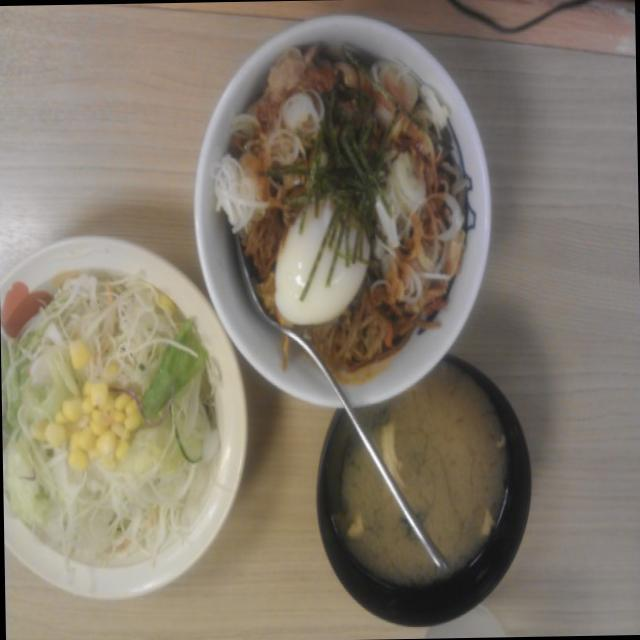Green Salad: (6, 279, 212, 577)
